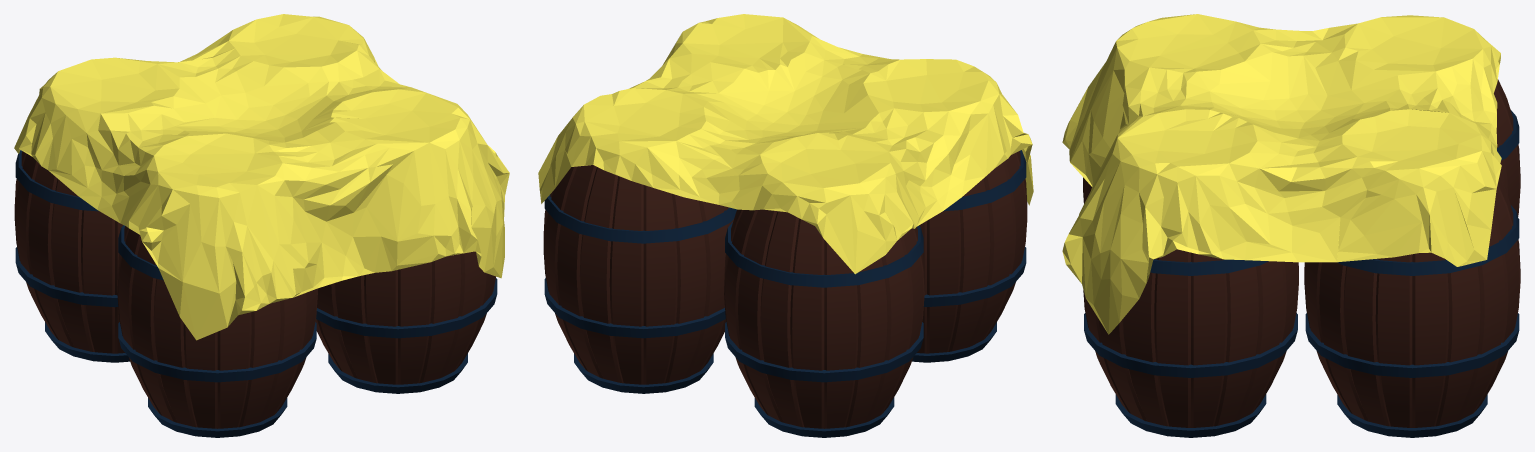
File: barrel_group.FBX
3 renders of one model, left to right at view 1: azimuth 30°, elevation 25°; view 2: azimuth 150°, elevation 25°; view 3: azimuth 270°, elevation 25°, orthographic. The views are drawn at different scales.
Visible parts, largest first — view 1: barrel_group; view 2: barrel_group; view 3: barrel_group.
Part boxes in pixels (<box>): barrel_group: <box>14,14,509,437</box>; barrel_group: <box>538,14,1033,437</box>; barrel_group: <box>1062,14,1520,437</box>.
Size of the model in its own units: 202 by 133 by 203.
